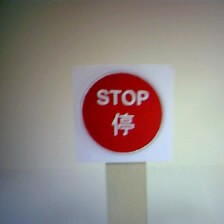stop: (72, 64, 174, 164)
